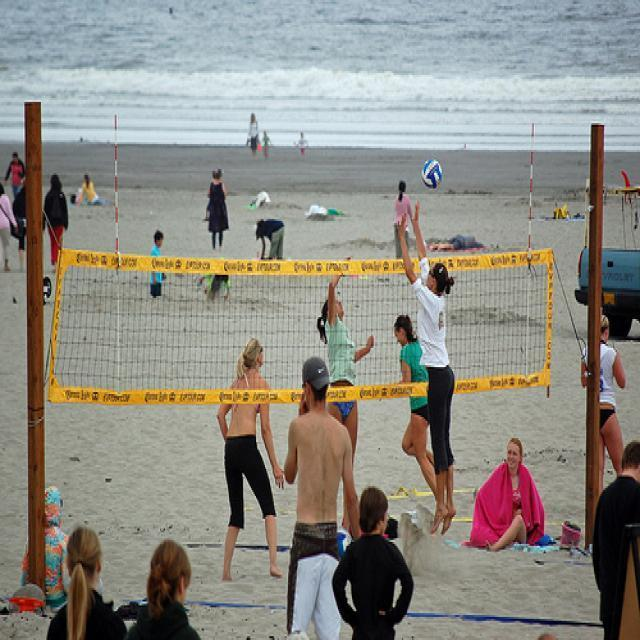volleyball: (421, 160, 442, 188)
